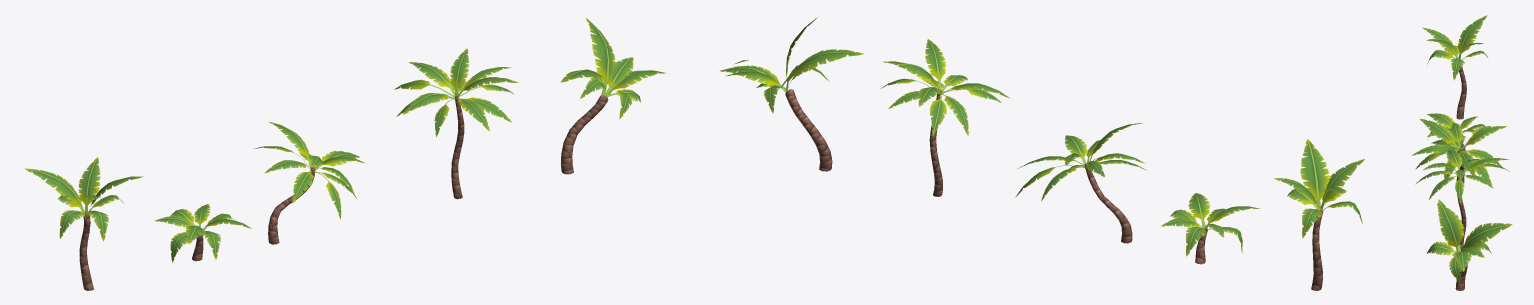
Rendered from palmeras.glb.
The picture shows the model from 3 angles, left to right: view 1: azimuth 30°, elevation 25°; view 2: azimuth 150°, elevation 25°; view 3: azimuth 270°, elevation 25°; orthographic projection. The views are drawn at different scales.
Visible parts, largest first — view 1: PalmTree_1, PalmTree_2, PalmTree_3, PalmTree_4, PalmTree_5; view 2: PalmTree_1, PalmTree_3, PalmTree_2, PalmTree_4, PalmTree_5; view 3: PalmTree_2, PalmTree_4, PalmTree_3, PalmTree_1, PalmTree_5.
Boxes of the visible parts, x1=… form: PalmTree_1: x1=394, y1=48, x2=518, y2=199; PalmTree_2: x1=560, y1=17, x2=665, y2=174; PalmTree_3: x1=24, y1=157, x2=143, y2=290; PalmTree_4: x1=253, y1=121, x2=365, y2=244; PalmTree_5: x1=154, y1=204, x2=251, y2=262; PalmTree_1: x1=881, y1=39, x2=1010, y2=196; PalmTree_3: x1=1274, y1=139, x2=1364, y2=290; PalmTree_2: x1=720, y1=17, x2=863, y2=171; PalmTree_4: x1=1015, y1=122, x2=1147, y2=243; PalmTree_5: x1=1161, y1=193, x2=1260, y2=264; PalmTree_2: x1=1426, y1=199, x2=1512, y2=290; PalmTree_4: x1=1412, y1=119, x2=1507, y2=185; PalmTree_3: x1=1422, y1=15, x2=1487, y2=119; PalmTree_1: x1=1415, y1=150, x2=1509, y2=249; PalmTree_5: x1=1427, y1=113, x2=1485, y2=152.
Bounding box in the file's own units: 25.91 × 5.28 × 5.24.
2 materials, 2 textured.
